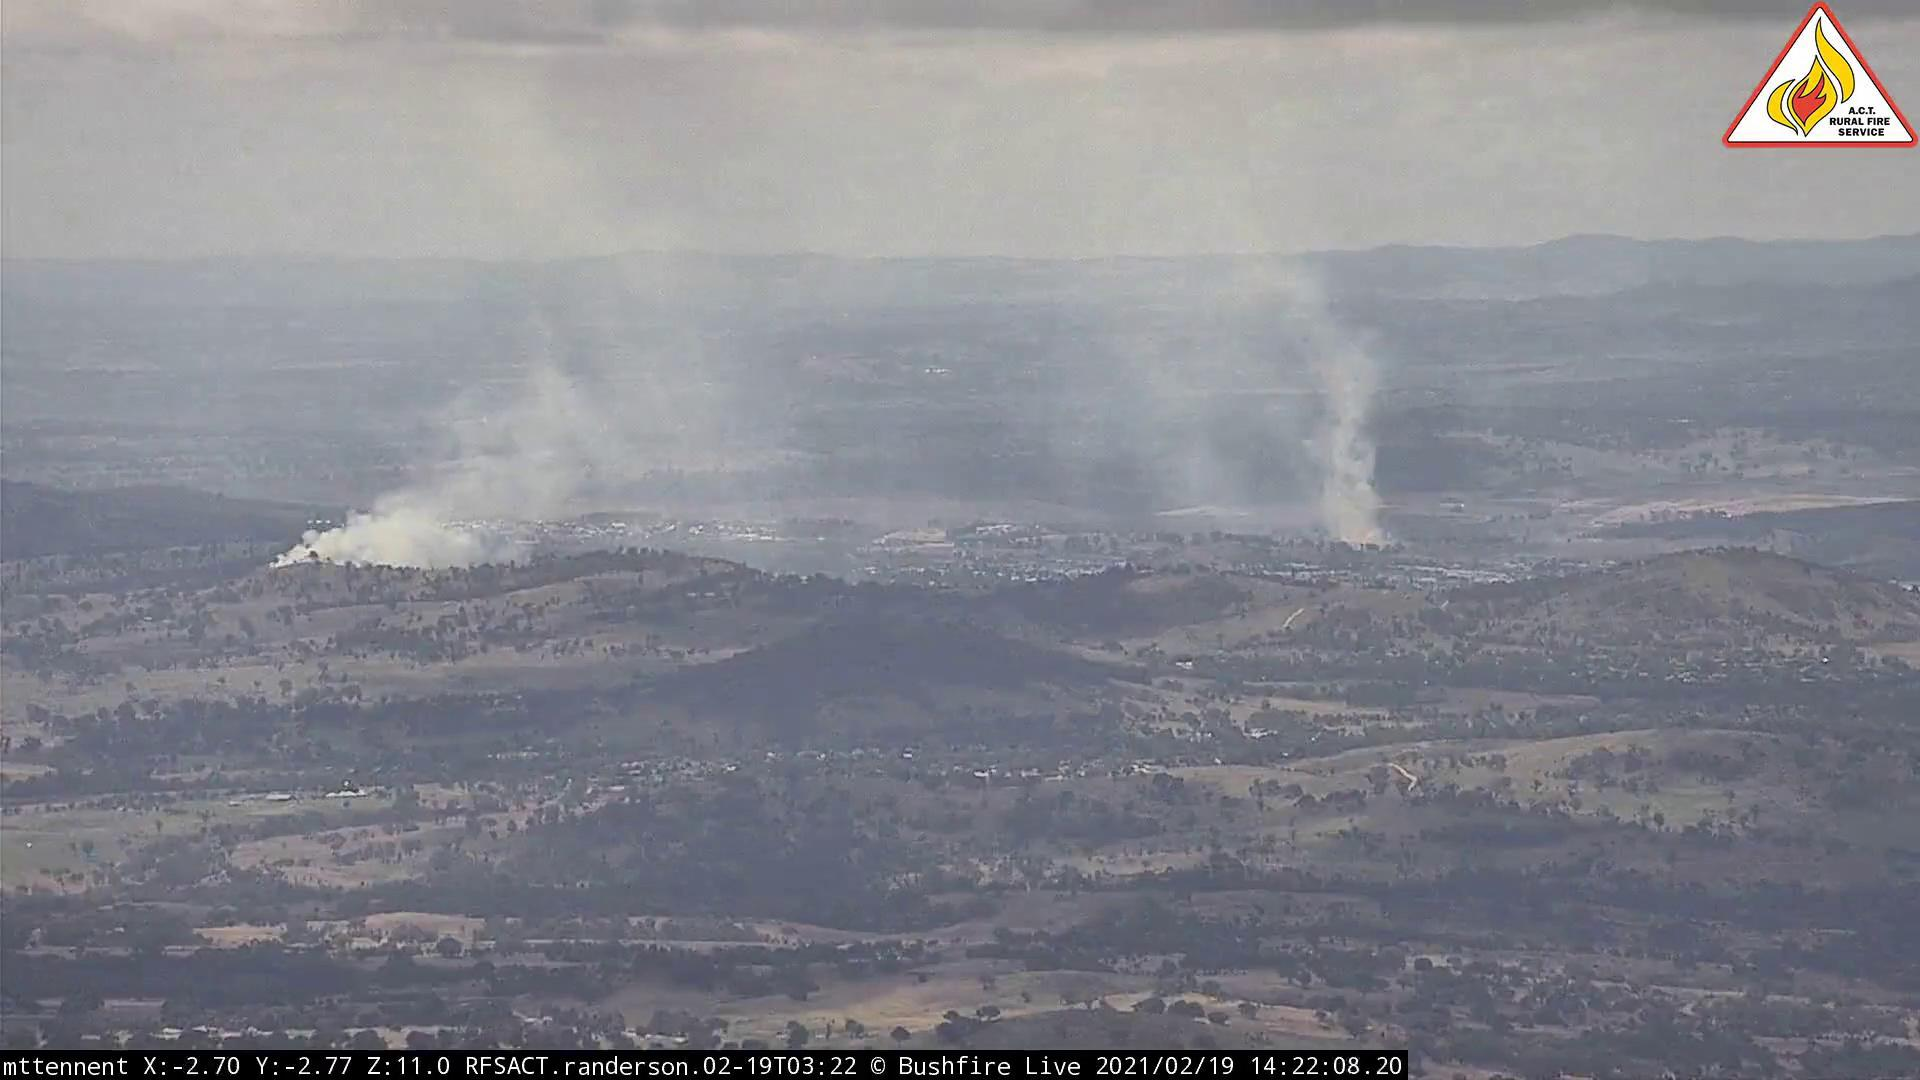Smoke: (251, 280, 774, 592), (1046, 265, 1440, 559)
